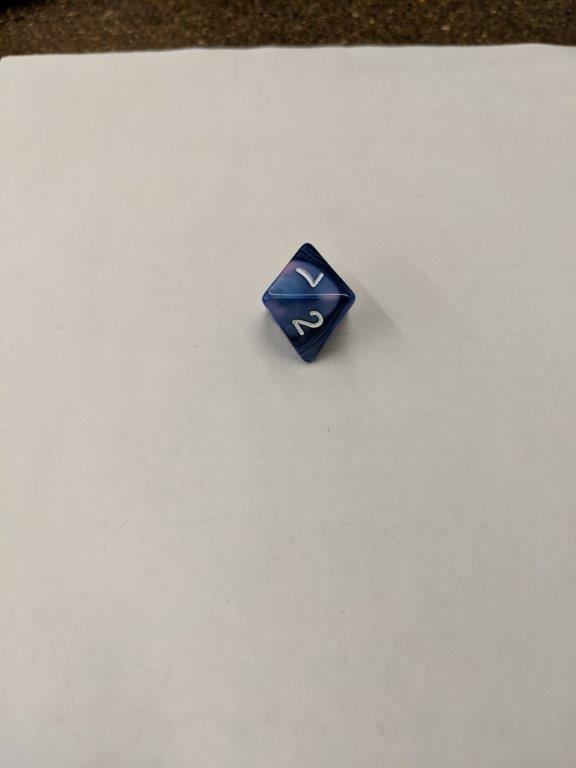d8-7: (263, 241, 355, 366)
